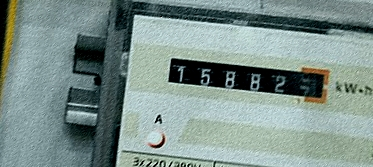1: (174, 64, 185, 82)
2: (272, 73, 286, 94)
5: (195, 66, 212, 87)
7: (296, 83, 309, 96)
8: (246, 70, 261, 92), (222, 68, 237, 89)
screen: (161, 49, 333, 108)
